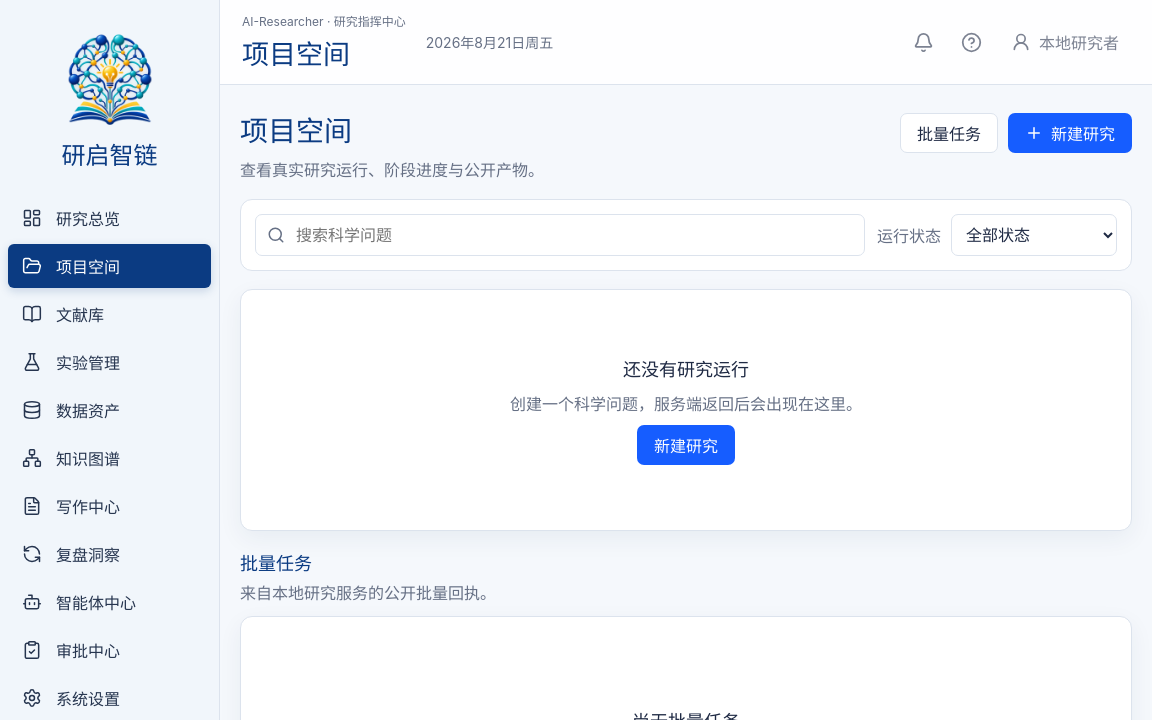
keeps all user input after a 409 service rejection
The width and height of the screenshot is (1152, 720).
Click the 1st button "新建研究".
click(1070, 133)  # box [1008, 113, 1132, 153]
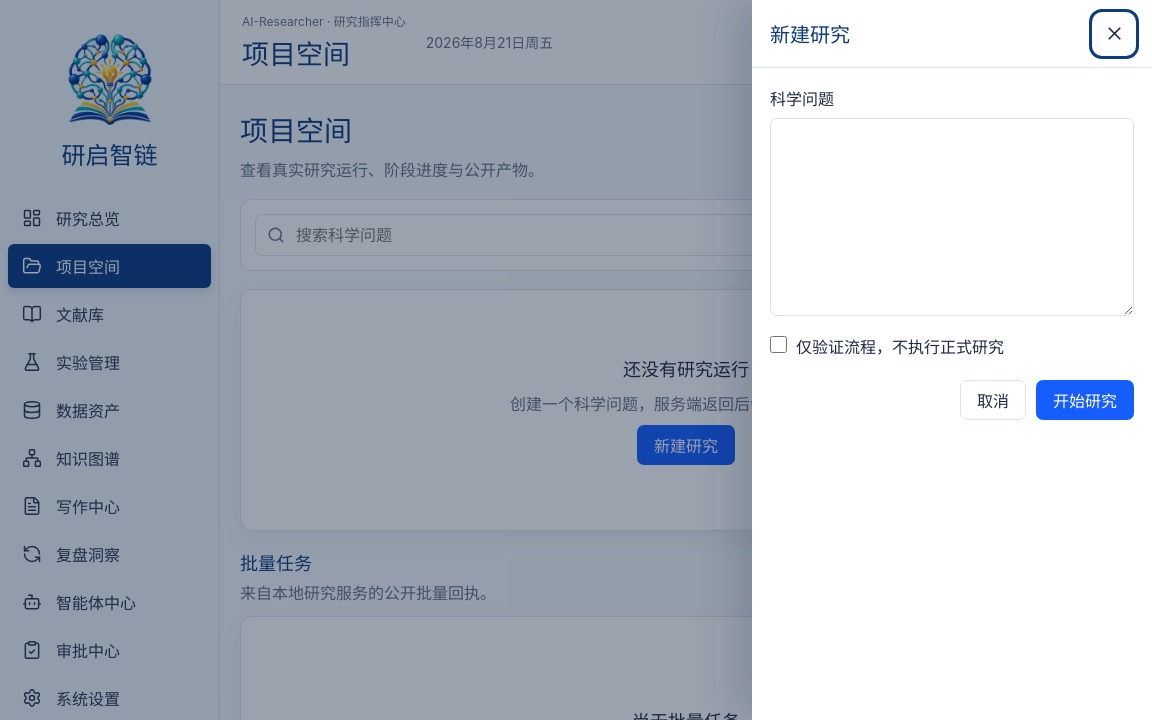
Type "需保留的问题" into the text box labelled "科学问题".
click(952, 217); type("需保留的问题")  # box [770, 118, 1134, 316]
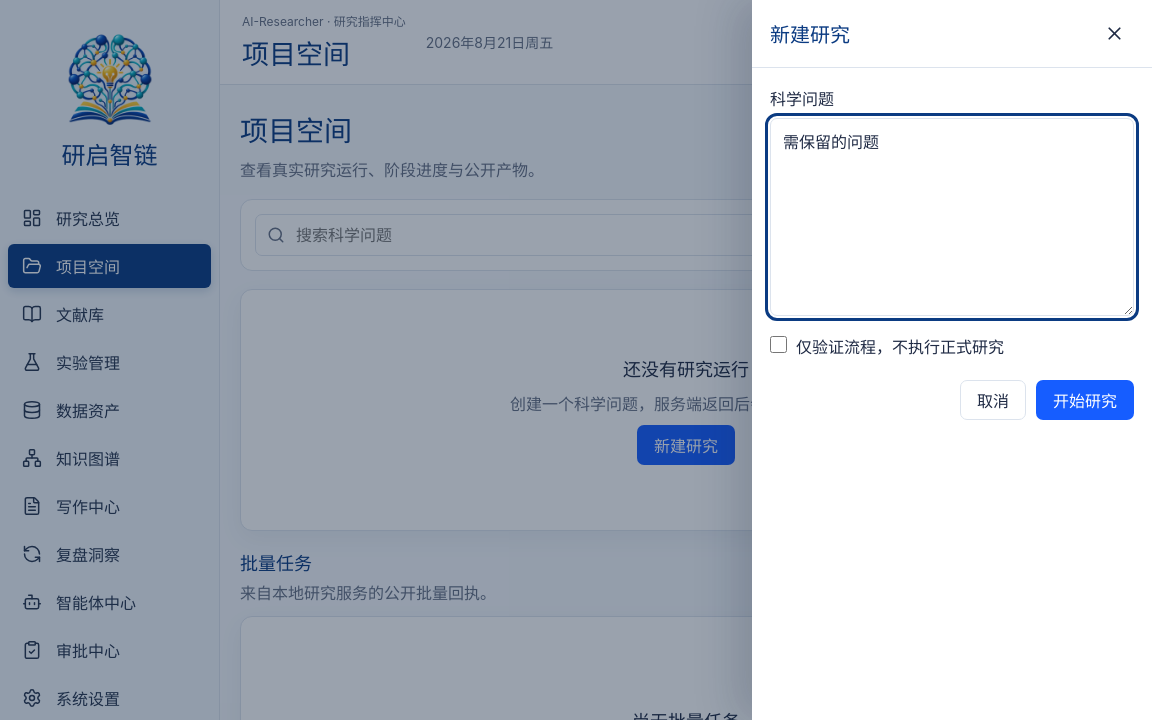
Click the checkbox labelled "仅验证流程，不执行正式研究".
click(778, 344)  # box [770, 336, 787, 353]
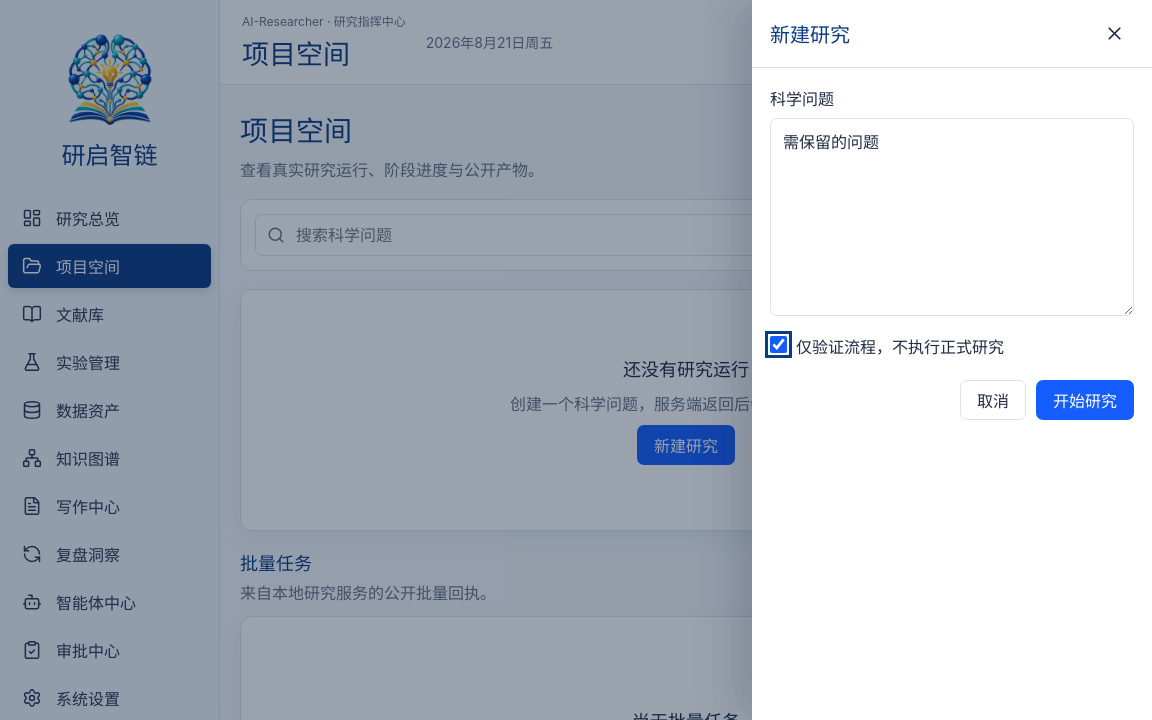
Click the button "开始研究".
click(1085, 400)  # box [1036, 380, 1134, 420]
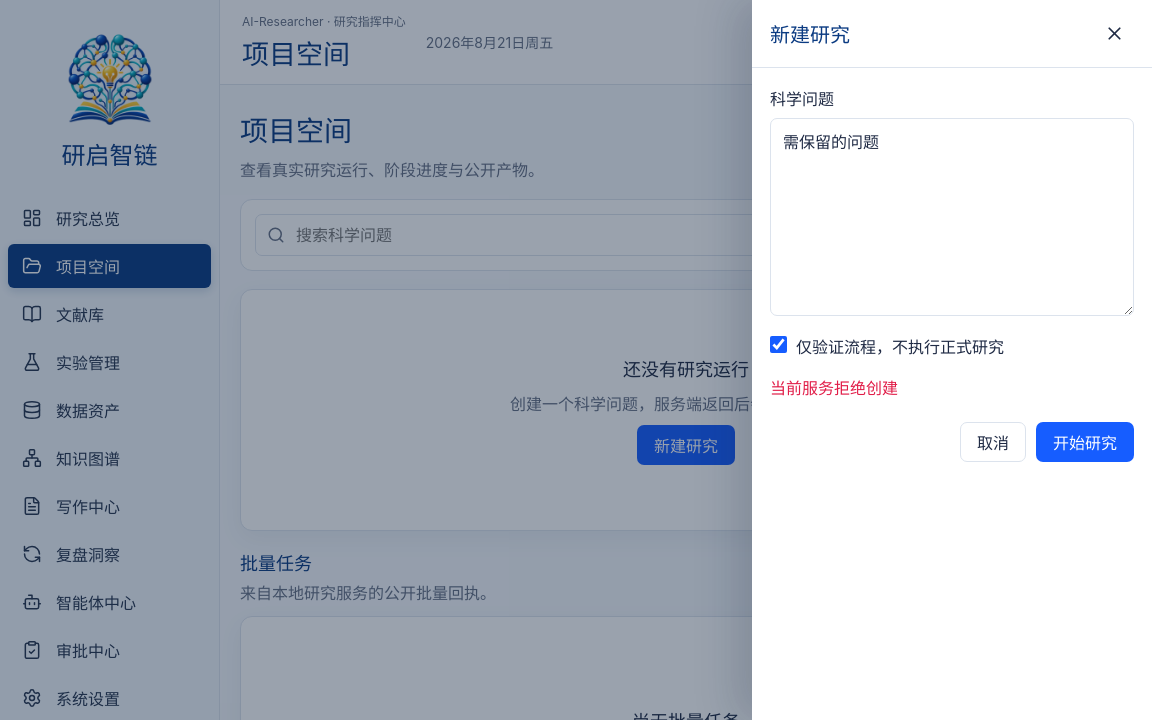
Result: the checkbox labelled "仅验证流程，不执行正式研究" is checked at [770, 336, 787, 353]
Result: the dialog "新建研究" is shown at [752, 0, 1151, 719]
Result: the message reads "当前服务拒绝创建" at [770, 378, 898, 398]
